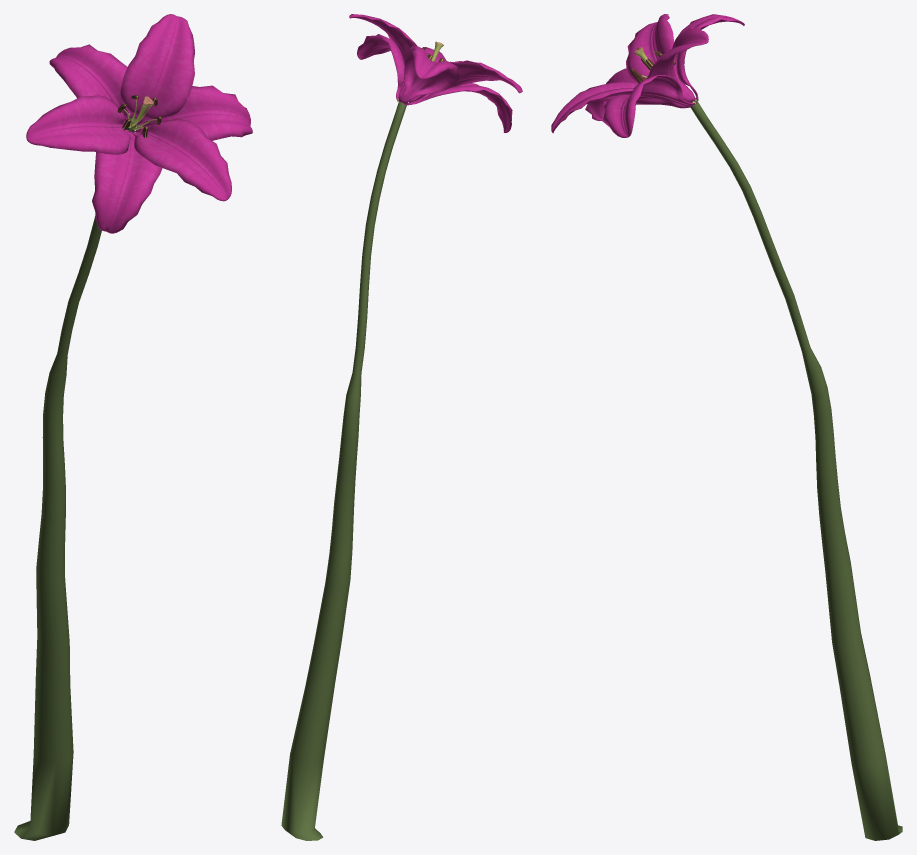
File: lilipink.glb
3 renders of one model, left to right at view 1: azimuth 30°, elevation 25°; view 2: azimuth 150°, elevation 25°; view 3: azimuth 270°, elevation 25°, orthographic. The views are drawn at different scales.
Parts seen in each view (by area): view 1: flower_set_01_lilies.001, base, flower_set_01_lilies.002; view 2: base, flower_set_01_lilies.001; view 3: base, flower_set_01_lilies.001.
Part boxes in pixels (<box>): flower_set_01_lilies.001: <box>26,14,252,233</box>; base: <box>14,118,136,840</box>; flower_set_01_lilies.002: <box>117,95,161,137</box>; base: <box>281,102,407,840</box>; flower_set_01_lilies.001: <box>349,14,522,132</box>; base: <box>690,96,902,840</box>; flower_set_01_lilies.001: <box>551,14,744,137</box>.
Size of the model in its own units: 32.74 by 133 by 51.82.
Materials: 3 (2 with a texture image).
